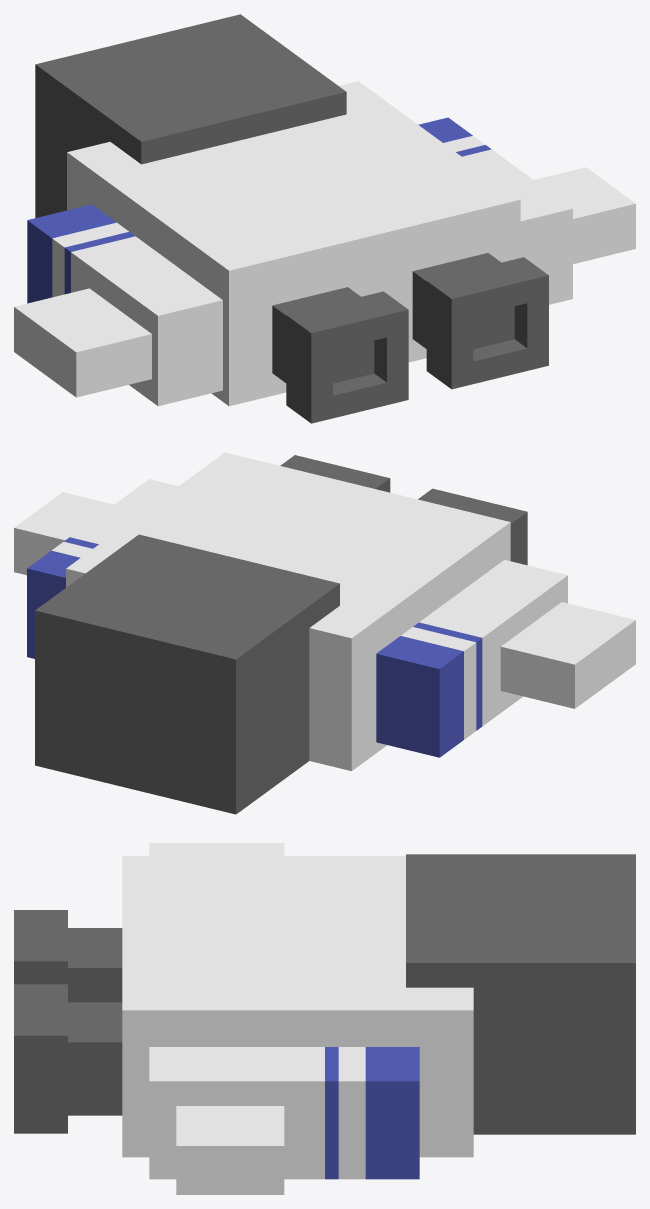
Rendered from Spaceship small 3.obj.
The picture shows the model from 3 angles, top to bottom: view 1: azimuth 30°, elevation 25°; view 2: azimuth 150°, elevation 25°; view 3: azimuth 270°, elevation 25°; orthographic projection. The views are drawn at different scales.
Size of the model in its own units: 53 by 14 by 46.
1 material, 1 textured.
